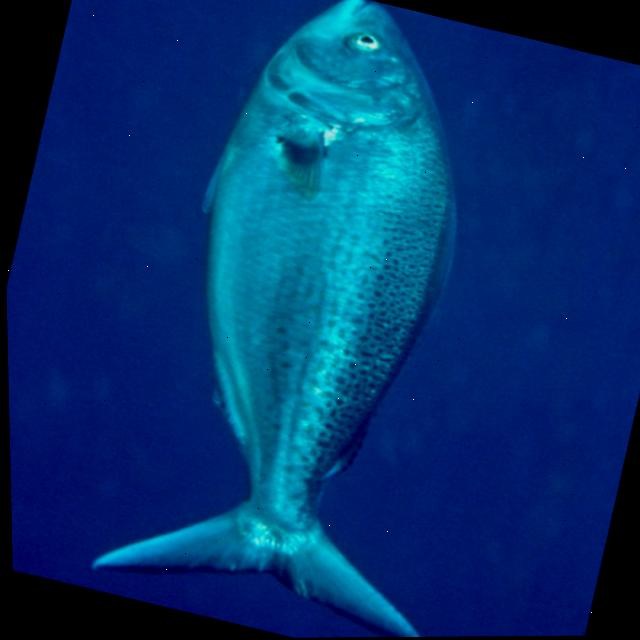Australian Salmon: (58, 0, 603, 640)
